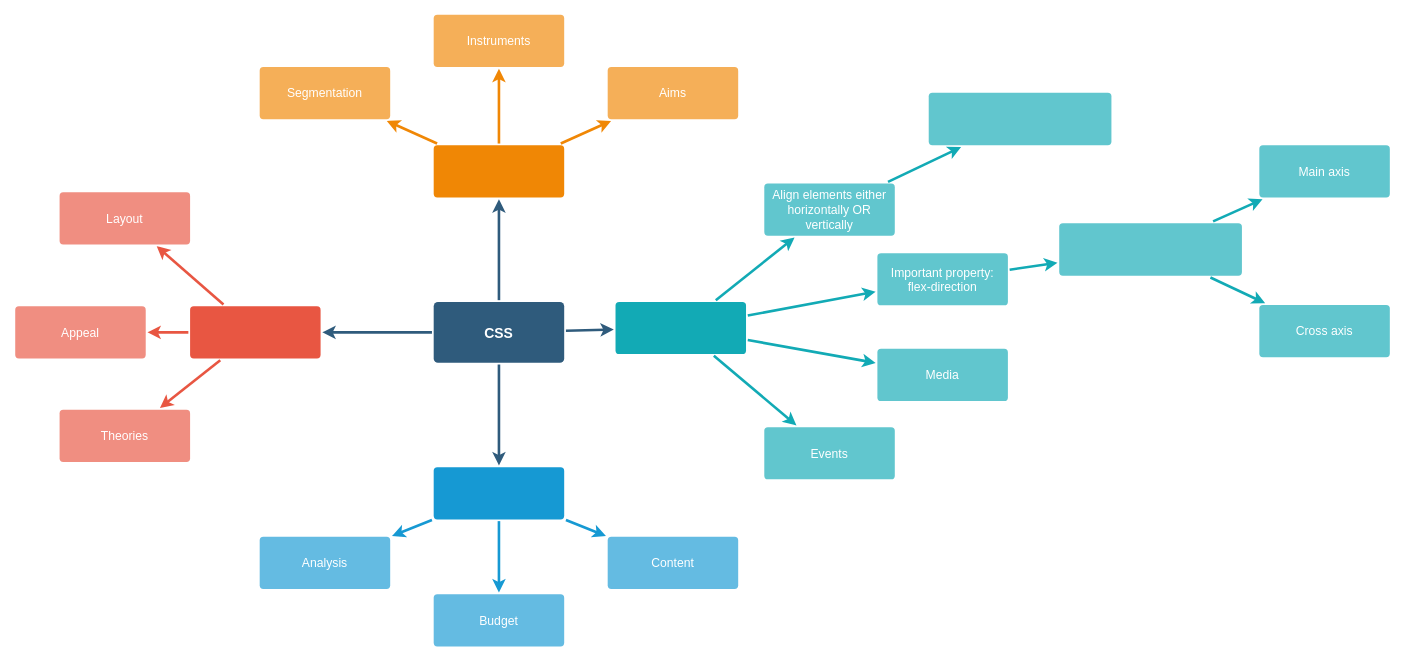
Image size: 1404x661. Some labels were removed from this diagram. Here are the shapes that lost their labels. From the top down, the box of each, then its label:
(928, 92, 1111, 145): Achive this with two elements: flex container and flex items
(433, 145, 564, 197): Marketing
(1059, 223, 1241, 275): Determine the direction that flex-items are arranged in two main axes
(190, 306, 320, 358): Embassy
(615, 301, 746, 354): CSS Flexbox
(433, 467, 564, 519): Organization
